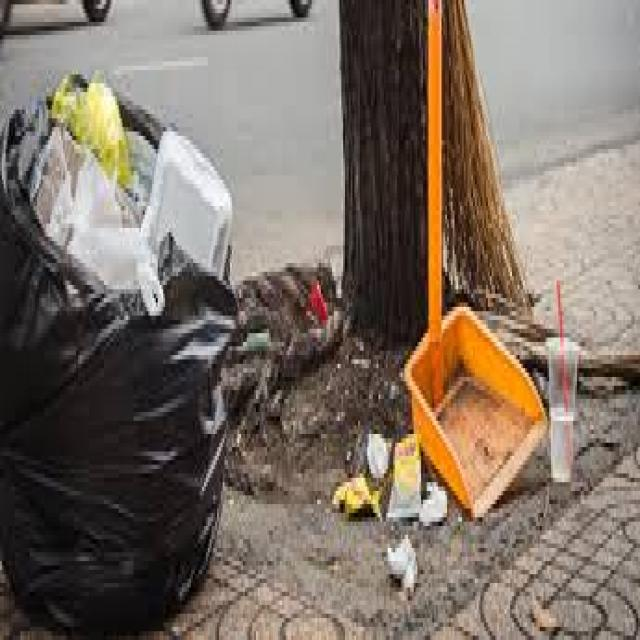plastic_bag: (5, 63, 250, 637)
